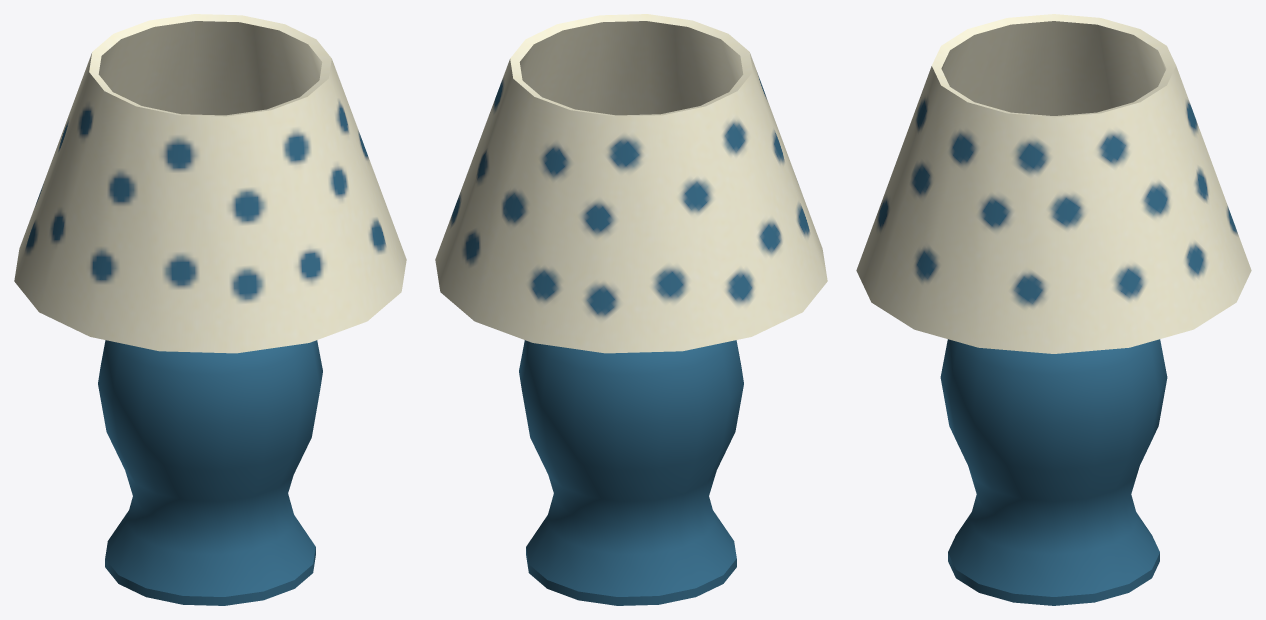
The model's file is SM_AbajurCorreto.fbx.
3 renders of one model, left to right at view 1: azimuth 30°, elevation 25°; view 2: azimuth 150°, elevation 25°; view 3: azimuth 270°, elevation 25°, orthographic.
Parts seen in each view (by area): view 1: SM_Abajur luz, SM_Abajur; view 2: SM_Abajur luz, SM_Abajur; view 3: SM_Abajur luz, SM_Abajur.
Boxes of the visible parts, x1,y1,x2,y2 form: SM_Abajur luz: [14, 14, 406, 353]; SM_Abajur: [98, 340, 322, 605]; SM_Abajur luz: [435, 14, 827, 353]; SM_Abajur: [519, 340, 743, 605]; SM_Abajur luz: [856, 14, 1251, 353]; SM_Abajur: [940, 339, 1167, 605].
Size of the model in its own units: 361 by 499 by 361.
